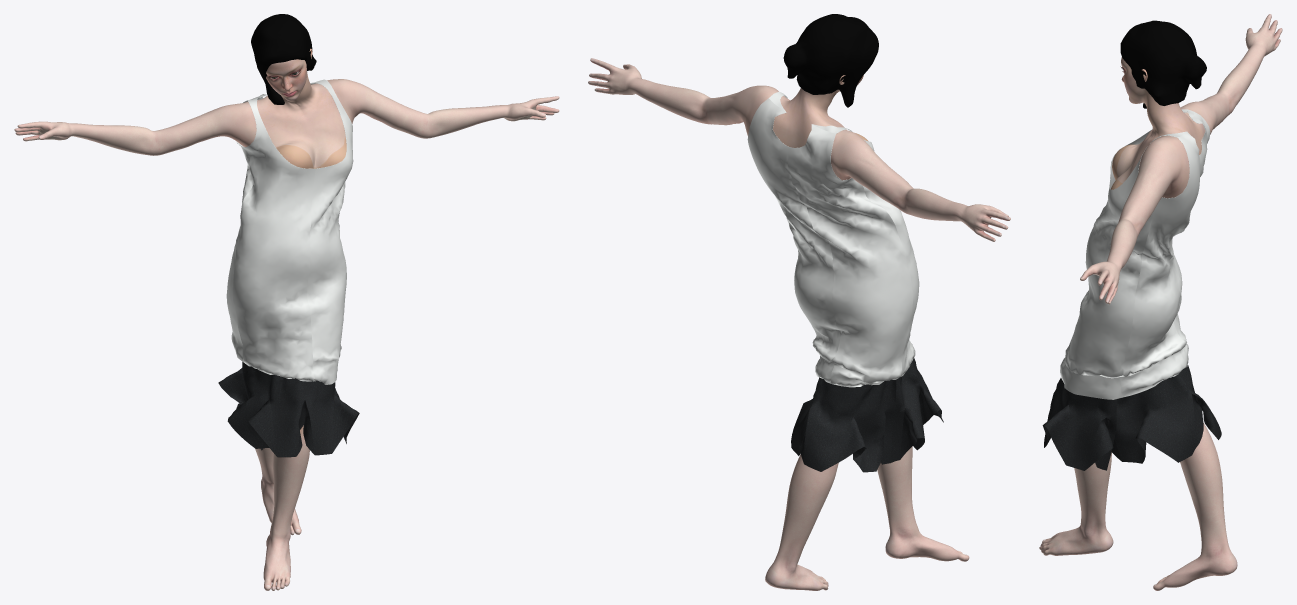
File: Dynamic.obj
The picture shows the model from 3 angles, left to right: view 1: azimuth 30°, elevation 25°; view 2: azimuth 150°, elevation 25°; view 3: azimuth 270°, elevation 25°; orthographic projection. The views are drawn at different scales.
Size of the model in its own units: 1601 by 1717 by 679.
